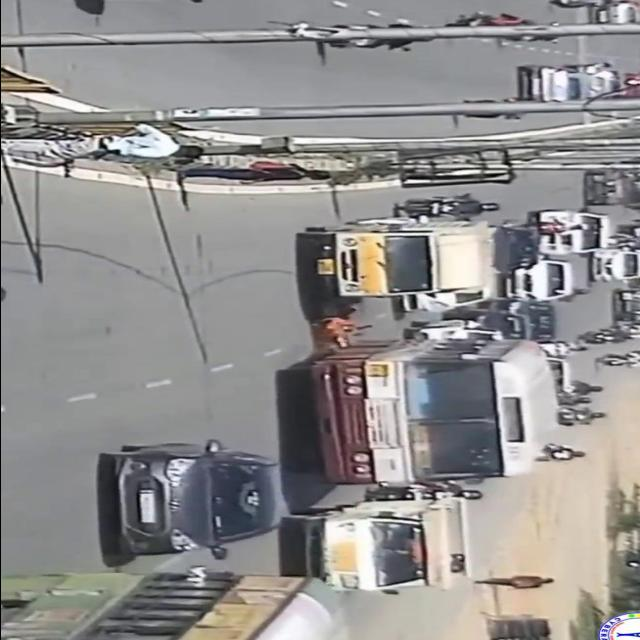accident: (278, 214, 559, 484)
non_accident: (501, 157, 640, 307), (512, 37, 640, 103)
